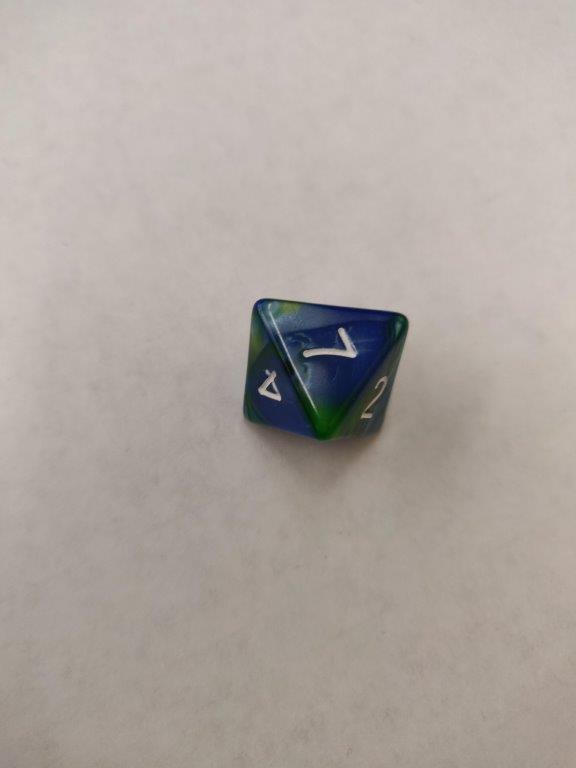d8-7: (239, 296, 407, 443)
